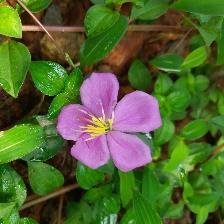malabar melastome: (56, 73, 164, 173)
